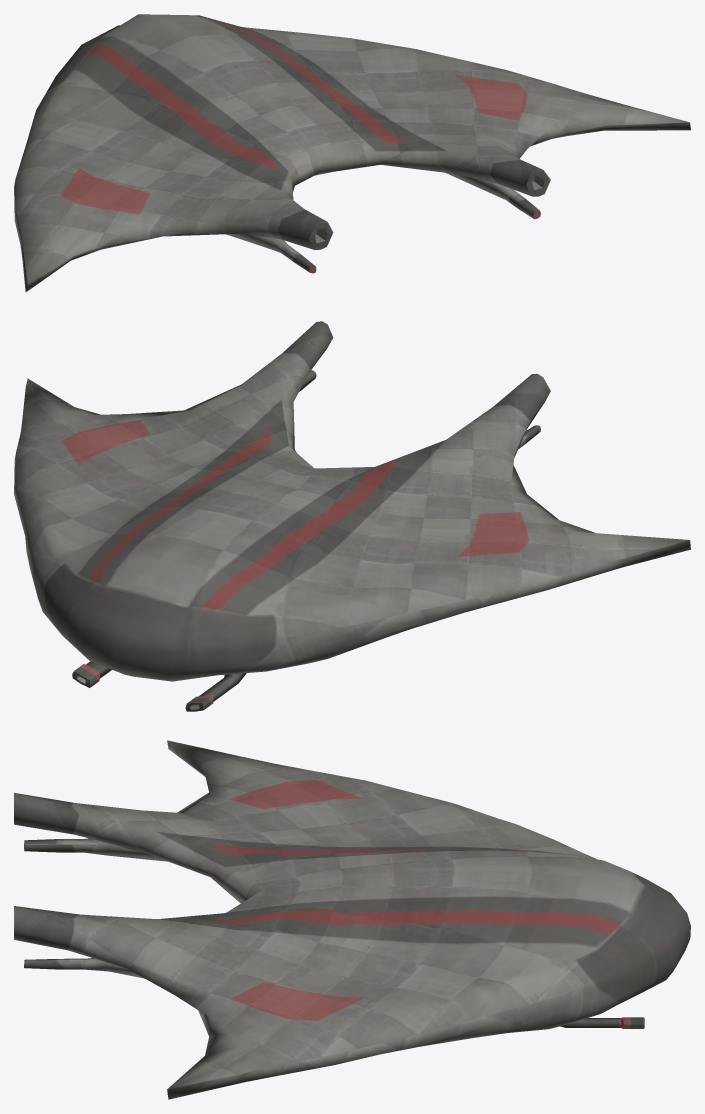
Rendered from shipuv.fbx.
The picture shows the model from 3 angles, top to bottom: view 1: azimuth 30°, elevation 25°; view 2: azimuth 150°, elevation 25°; view 3: azimuth 270°, elevation 25°; orthographic projection. The views are drawn at different scales.
Parts seen in each view (by area): view 1: Cube; view 2: Cube; view 3: Cube.
Boxes of the visible parts, x1,y1,x2,y2 form: Cube: (14,14,690,292); Cube: (14,321,690,711); Cube: (14,740,690,1099).
Size of the model in its own units: 2.5 by 0.4988 by 2.04.
1 material, 1 textured.
